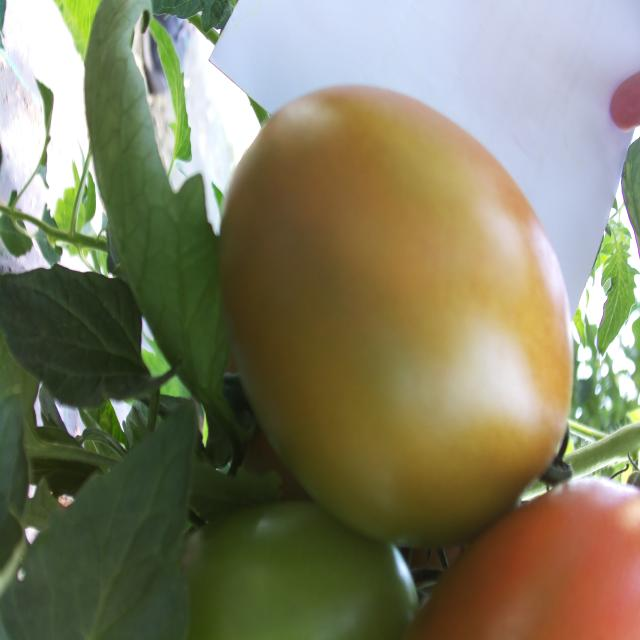sari: (204, 82, 586, 539)
